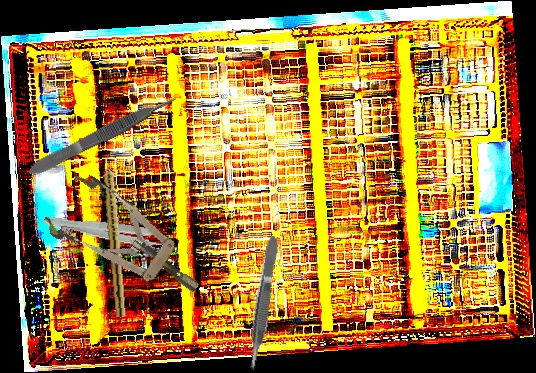Handpiece: (100, 150, 130, 318)
Speculum: (38, 167, 217, 319)
Tissue Forceps: (24, 91, 182, 180), (42, 211, 175, 255), (242, 235, 284, 372)
